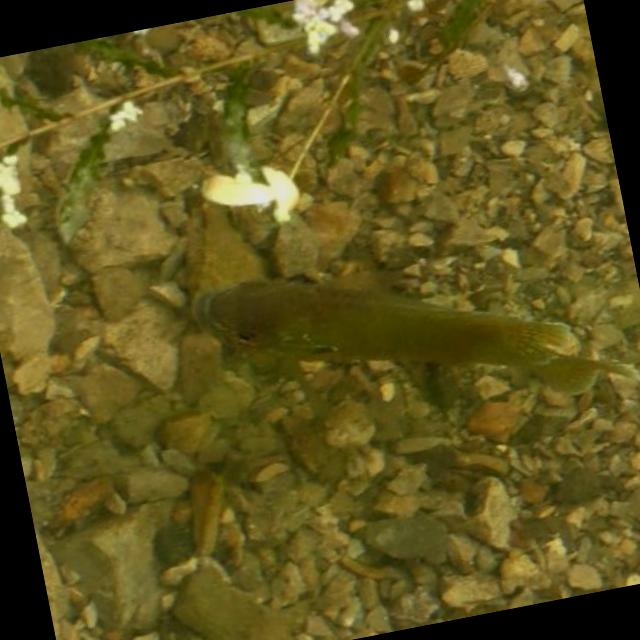Gunes Levregi: (182, 207, 640, 463)
